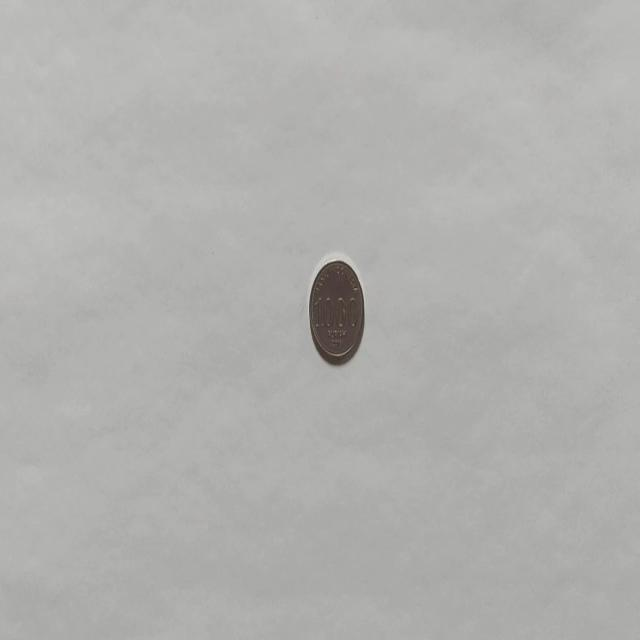seribu rupiah koin: (307, 254, 365, 366)
